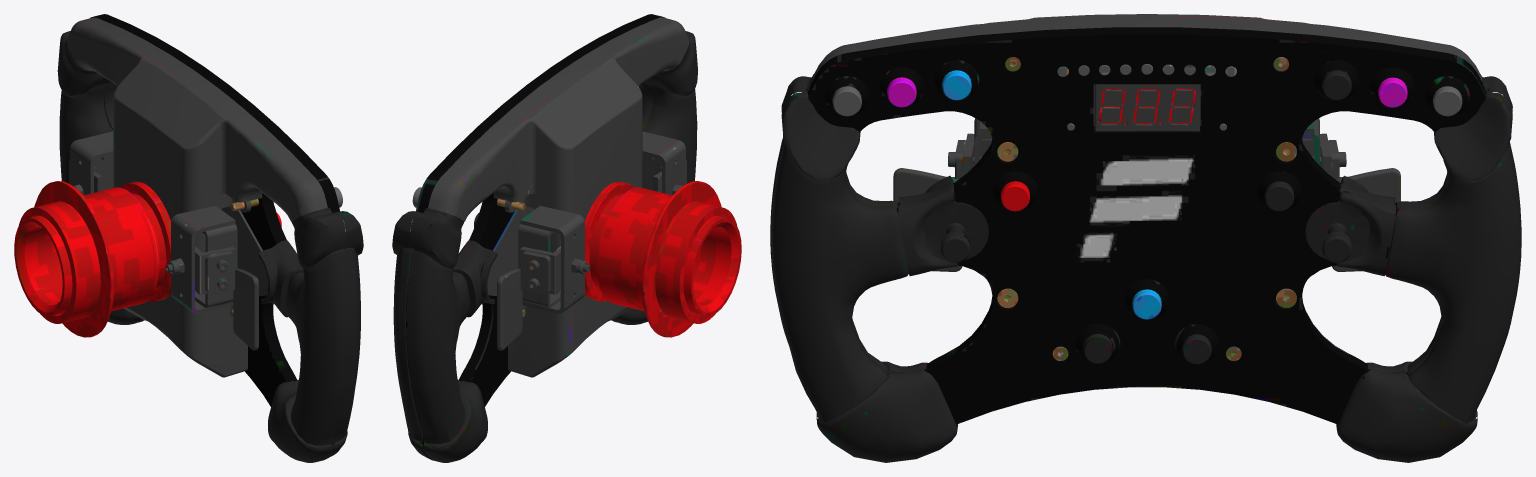
File: wheel_b.glb
3 renders of one model, left to right at view 1: azimuth 30°, elevation 25°; view 2: azimuth 150°, elevation 25°; view 3: azimuth 270°, elevation 25°, orthographic. The views are drawn at different scales.
Parts seen in each view (by area): view 1: wheel_b; view 2: wheel_b; view 3: wheel_b.
Part boxes in pixels (bbox=[...]): wheel_b: bbox=[14, 14, 363, 462]; wheel_b: bbox=[392, 14, 741, 462]; wheel_b: bbox=[770, 14, 1521, 462].
Size of the model in its own units: 0.0106 by 0.0152 by 0.0243.
Materials: 1 (1 with a texture image).
